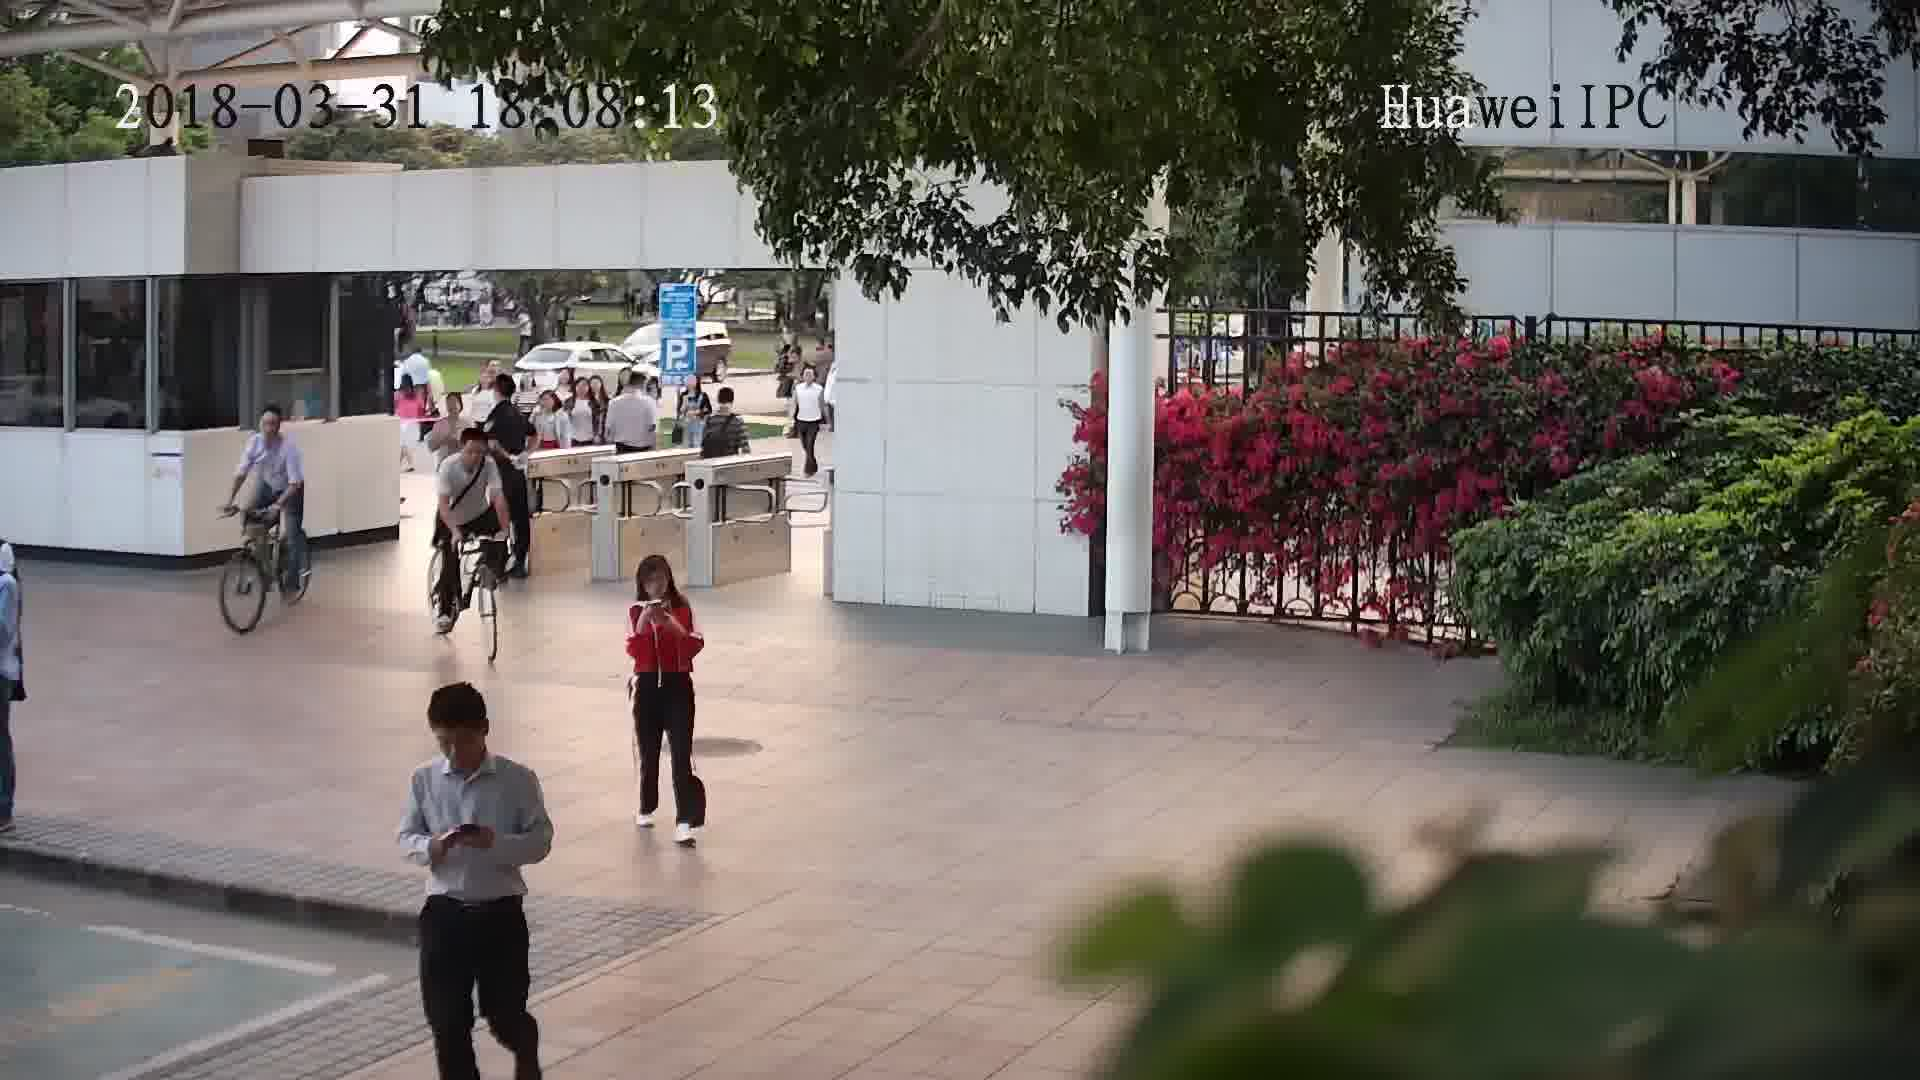face: (432, 718, 487, 773)
person: (406, 683, 533, 798), (621, 553, 695, 626), (441, 422, 498, 480), (240, 400, 296, 457), (433, 388, 483, 436), (611, 365, 658, 413), (701, 382, 747, 429), (485, 374, 526, 424), (529, 384, 571, 429), (559, 376, 601, 418), (671, 368, 710, 414), (392, 369, 429, 407), (793, 364, 826, 395), (785, 345, 812, 376)
